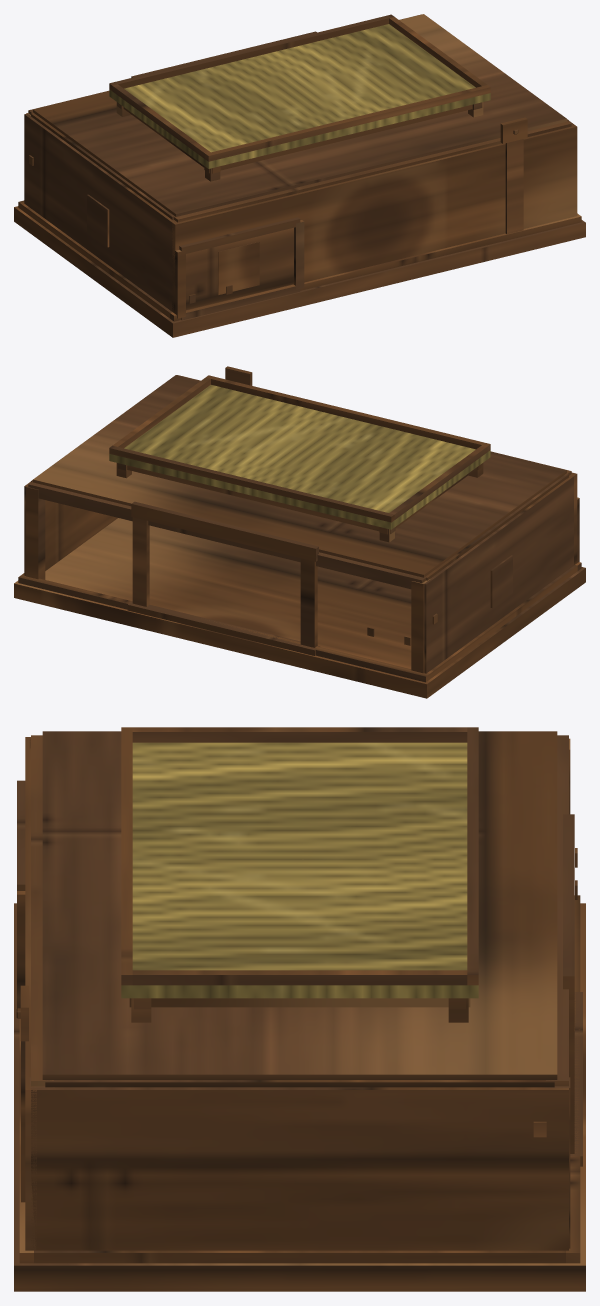
3 views of the same model, one above another, from view 1: azimuth 30°, elevation 25°; view 2: azimuth 150°, elevation 25°; view 3: azimuth 270°, elevation 25° (orthographic). The views are drawn at different scales.
Parts seen in each view (by area): view 1: SM_HDBF_BoxFarm_Basic_LOD2; view 2: SM_HDBF_BoxFarm_Basic_LOD2; view 3: SM_HDBF_BoxFarm_Basic_LOD2.
Part boxes in pixels (left/top/right/bottom): SM_HDBF_BoxFarm_Basic_LOD2: left=14, top=14, right=585, bottom=337; SM_HDBF_BoxFarm_Basic_LOD2: left=14, top=366, right=585, bottom=698; SM_HDBF_BoxFarm_Basic_LOD2: left=14, top=727, right=585, bottom=1291.
Size of the model in its own units: 3 by 1 by 2.
Materials: 2 (2 with a texture image).
